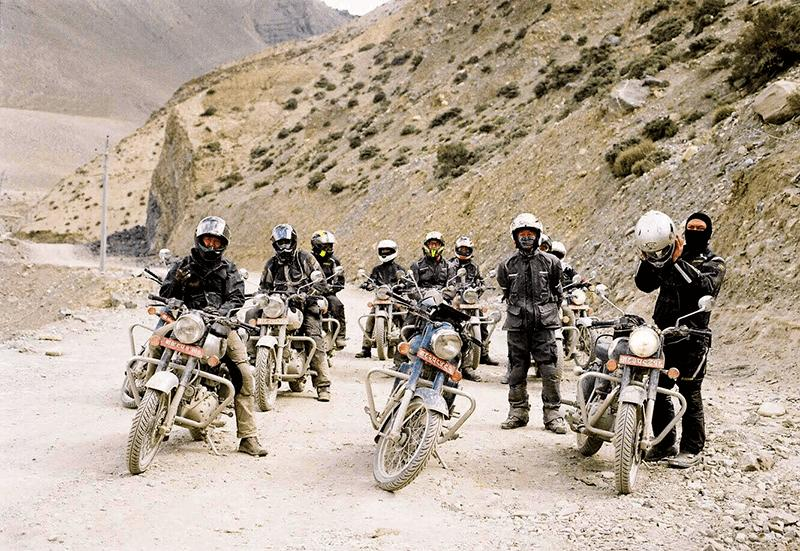bike: (365, 268, 500, 494), (123, 263, 263, 474), (578, 278, 716, 492), (248, 262, 323, 408)
